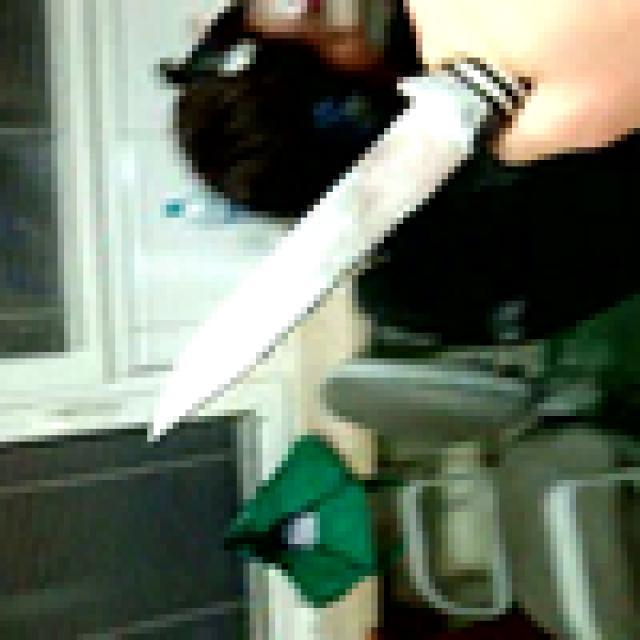knife: (141, 38, 519, 461)
